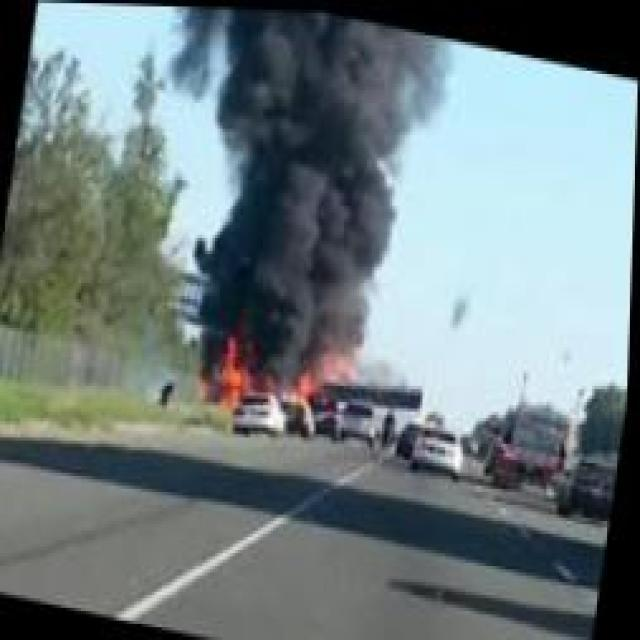Fire: (194, 305, 364, 444)
Smoke: (101, 3, 468, 354)
